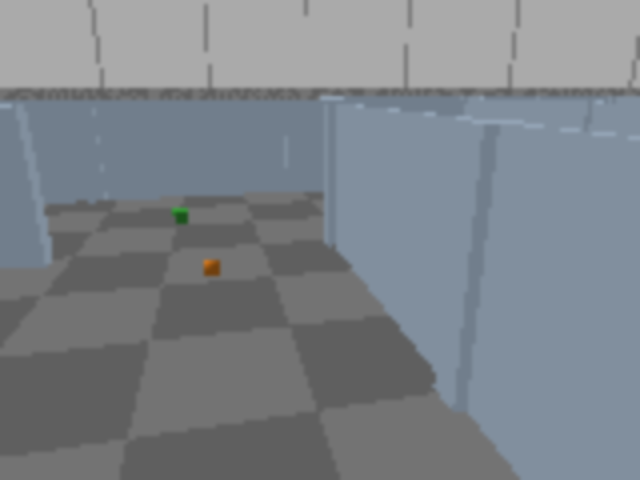puck: (200, 254, 224, 281)
